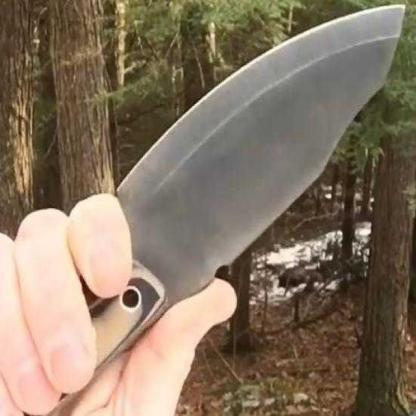Knife: (22, 0, 410, 416)
